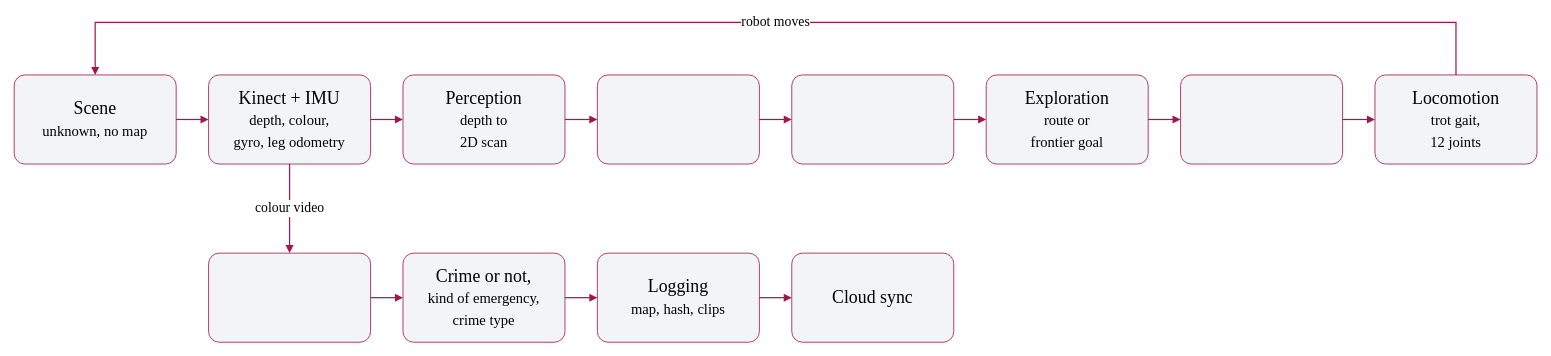
Image size: 1551x356. Some labels were removed from this diagram. Here are the shapes that lost their labels. From the top down, the centre of each, then its label:
At point 678,119: "SLAM ICP pose, loop closure".
At point 872,119: "Mapping occupancy grid".
At point 1261,119: "Planning A* path".
At point 289,297: "Video model VideoMamba + HorNet".
